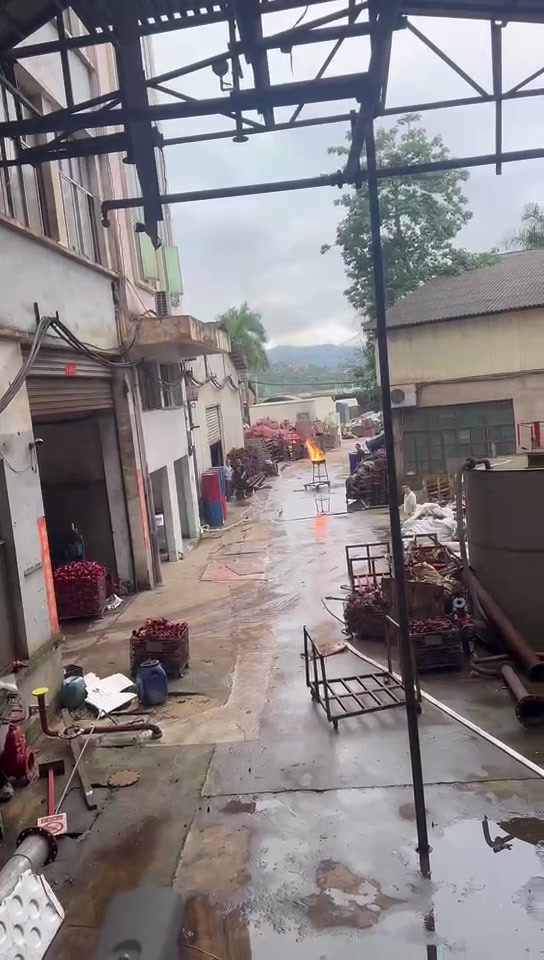fire: (304, 438, 325, 460)
